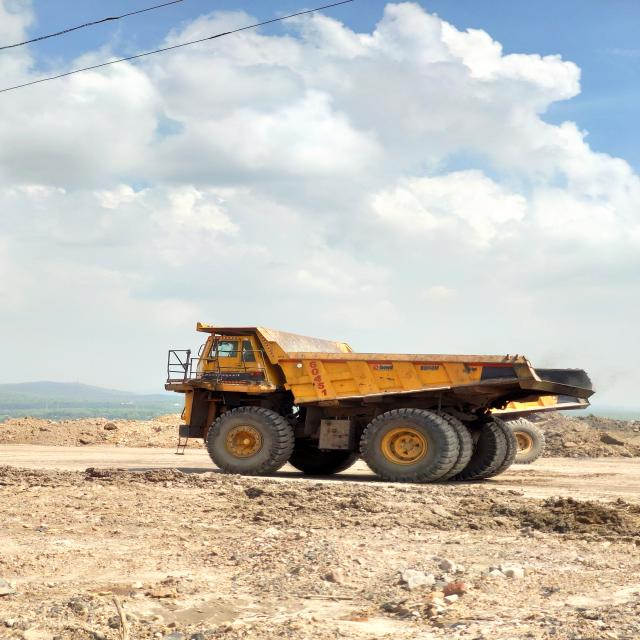dump_truck: (165, 324, 592, 484)
